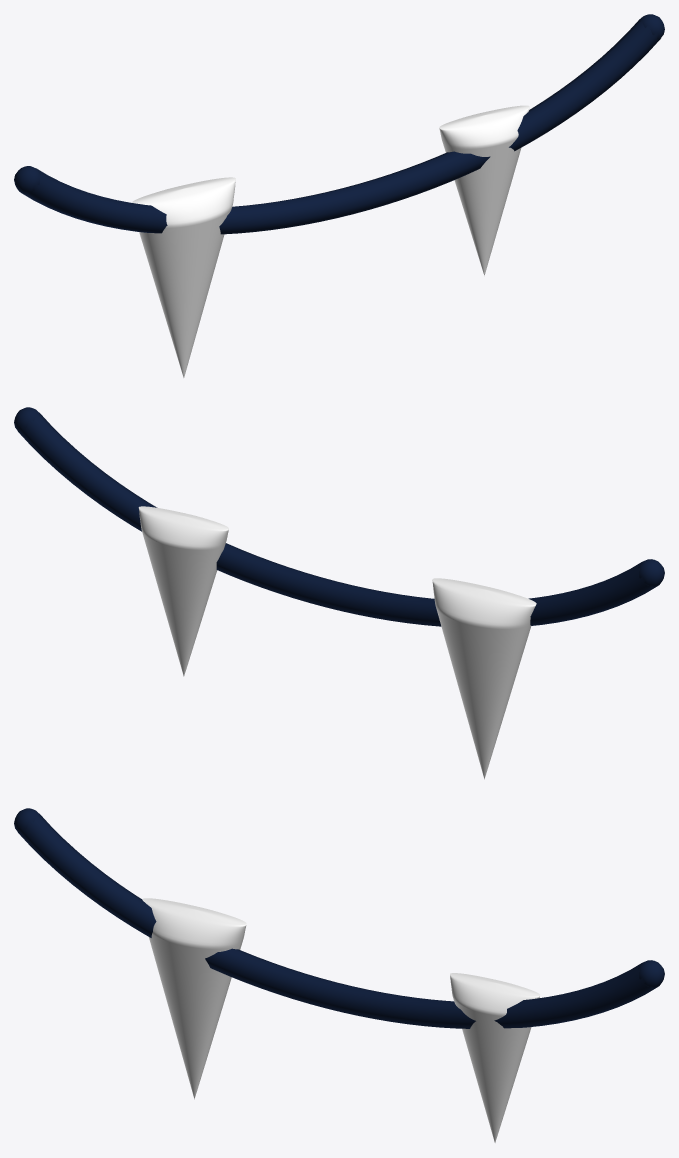
Rendered from fangs.glb.
The picture shows the model from 3 angles, top to bottom: view 1: azimuth 30°, elevation 25°; view 2: azimuth 150°, elevation 25°; view 3: azimuth 330°, elevation 25°; orthographic projection.
Visible parts, largest first — view 1: fangs_-100_line, fangs_-101_solid, fangs_-102_solid; view 2: fangs_-100_line, fangs_-101_solid, fangs_-102_solid; view 3: fangs_-100_line, fangs_-101_solid, fangs_-102_solid.
Part boxes in pixels (left/top/right/bottom): fangs_-100_line: left=14, top=14, right=664, bottom=234; fangs_-101_solid: left=132, top=177, right=235, bottom=377; fangs_-102_solid: left=439, top=105, right=529, bottom=275; fangs_-100_line: left=14, top=407, right=664, bottom=626; fangs_-101_solid: left=432, top=578, right=536, bottom=779; fangs_-102_solid: left=138, top=506, right=228, bottom=676; fangs_-100_line: left=14, top=808, right=664, bottom=1028; fangs_-101_solid: left=142, top=898, right=246, bottom=1099; fangs_-102_solid: left=450, top=973, right=539, bottom=1142.
Size of the model in its own units: 0.3704 by 0.1392 by 0.0319.
